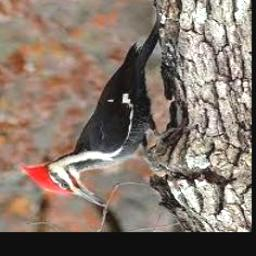Woodpecker: (21, 12, 162, 206)
